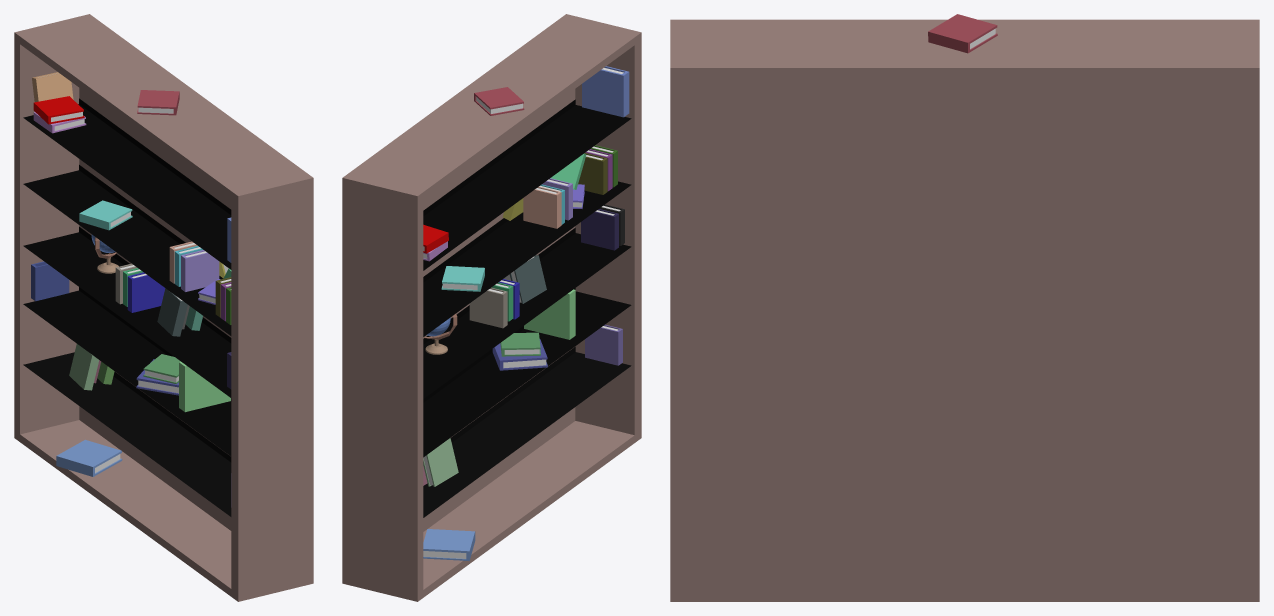
Rendered from BÅcherregal2.fbx.
3 renders of one model, left to right at view 1: azimuth 30°, elevation 25°; view 2: azimuth 150°, elevation 25°; view 3: azimuth 270°, elevation 25°, orthographic. The views are drawn at different scales.
Parts seen in each view (by area): view 1: Cube, Plane.004, Plane.001, Plane, Plane.002, Plane.003, Cube.044, Cube.033, Cube.020, Cube.041, Cube.038, Cube.009 (+6 smaller); view 2: Cube, Plane.004, Plane.001, Plane, Plane.002, Plane.003, Cube.011, Cube.033, Cube.029, Cube.044, Cube.062, Cube.036 (+11 smaller); view 3: Cube, Cube.002.
Boxes of the visible parts, x1,y1,x2,y2 form: Cube: (14,14,313,601); Plane.004: (23,98,231,269); Plane.001: (23,352,231,516); Plane: (23,287,231,456); Plane.002: (23,227,231,397); Plane.003: (23,165,231,335); Cube.044: (56,439,122,476); Cube.033: (179,361,230,412); Cube.020: (181,250,219,291); Cube.041: (127,272,165,312); Cube.038: (31,261,69,301); Cube.009: (79,200,132,230); Cube: (342,14,641,601); Plane.004: (423,99,631,270); Plane.001: (423,346,631,517); Plane: (423,288,631,457); Plane.002: (423,227,631,398); Plane.003: (423,181,631,336); Cube.011: (582,66,629,117); Cube.033: (524,289,575,339); Cube.029: (523,186,561,228); Cube.044: (423,529,475,561); Cube.062: (581,209,618,250); Cube.036: (585,324,622,365); Cube: (670,19,1259,601); Cube.002: (928,14,997,53).
Size of the model in its own units: 54.88 by 271 by 265.
